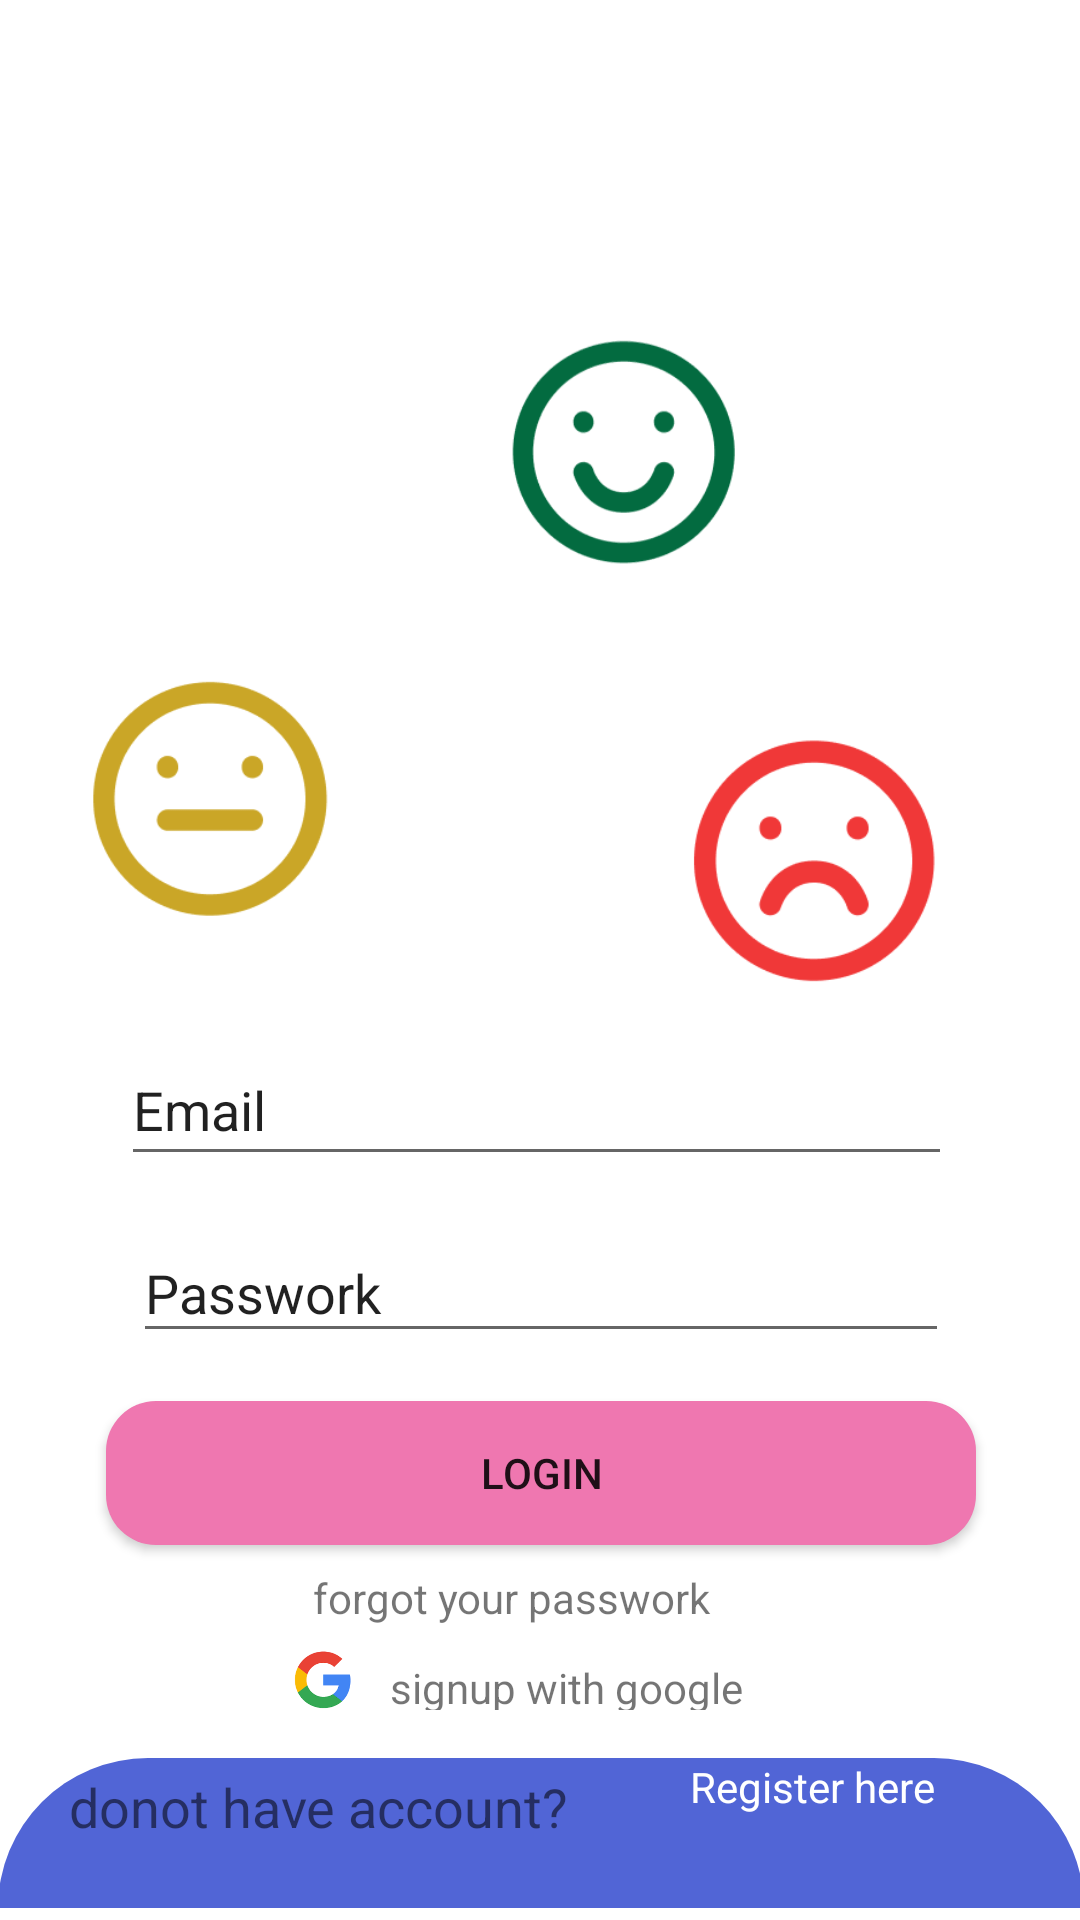

Named icons in this screenshot (1080×1920) and their centers, point (x, y):
matbt: point (210, 798)
matbun: point (814, 861)
matcuoi: point (623, 452)
